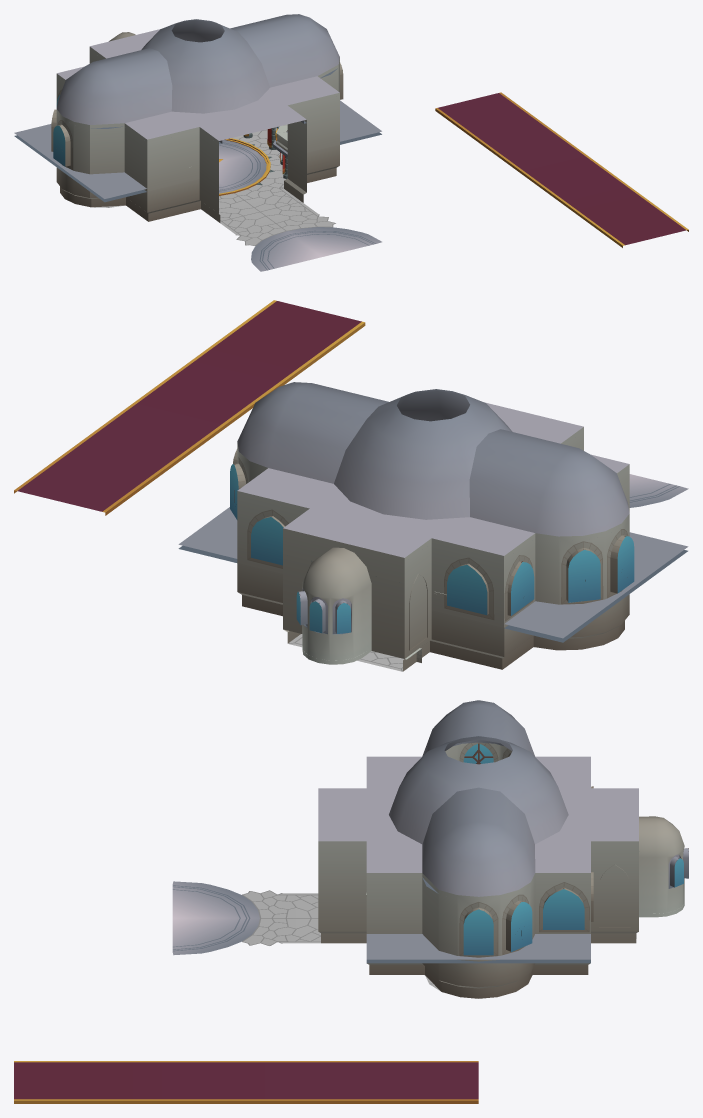
File: assets_mode_arena.fbx
3 renders of one model, top to bottom at view 1: azimuth 30°, elevation 25°; view 2: azimuth 150°, elevation 25°; view 3: azimuth 270°, elevation 25°, orthographic. The views are drawn at different scales.
Visible parts, largest first — view 1: Asset5, Asset6, Red_road, Asset8, Asset2, Asset7; view 2: Asset5, Asset6, Red_road, Asset3, Asset2, Asset8; view 3: Asset5, Asset6, Red_road, Asset8, Asset2, Asset3.
Boxes of the visible parts, left/top/right/bottom form: Asset5: left=56, top=14, right=339, bottom=140; Asset6: left=51, top=47, right=343, bottom=222; Red_road: left=435, top=92, right=688, bottom=247; Asset8: left=94, top=127, right=381, bottom=271; Asset2: left=14, top=100, right=381, bottom=202; Asset7: left=219, top=138, right=274, bottom=195; Asset5: left=237, top=382, right=629, bottom=557; Asset6: left=230, top=427, right=634, bottom=671; Red_road: left=14, top=300, right=365, bottom=515; Asset3: left=283, top=528, right=421, bottom=664; Asset2: left=178, top=507, right=688, bottom=642; Asset8: left=288, top=474, right=688, bottom=671; Asset5: left=318, top=700, right=638, bottom=896; Asset6: left=318, top=739, right=638, bottom=998; Red_road: left=14, top=1061, right=478, bottom=1103; Asset8: left=172, top=881, right=636, bottom=991; Asset2: left=366, top=893, right=590, bottom=963; Asset3: left=639, top=816, right=688, bottom=917.
Bounding box in the file's own units: 93.78 × 27.96 × 100.
